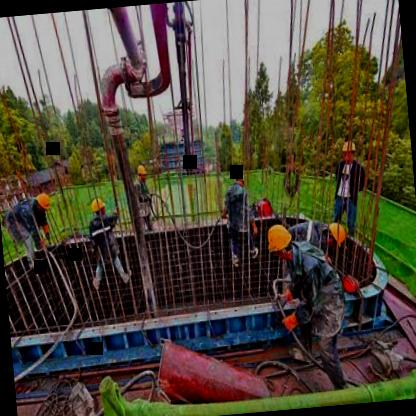helmet: (265, 223, 295, 264), (320, 218, 350, 250), (32, 188, 52, 219), (90, 194, 108, 221), (340, 137, 358, 164), (136, 162, 148, 184), (234, 166, 246, 188)
